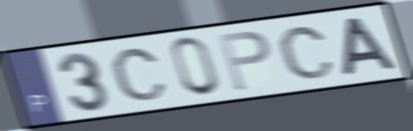0: (169, 35, 223, 100)
3: (57, 50, 110, 114)
A: (340, 15, 400, 79)
C: (109, 46, 170, 103), (277, 25, 338, 82)
P: (215, 29, 273, 94)
